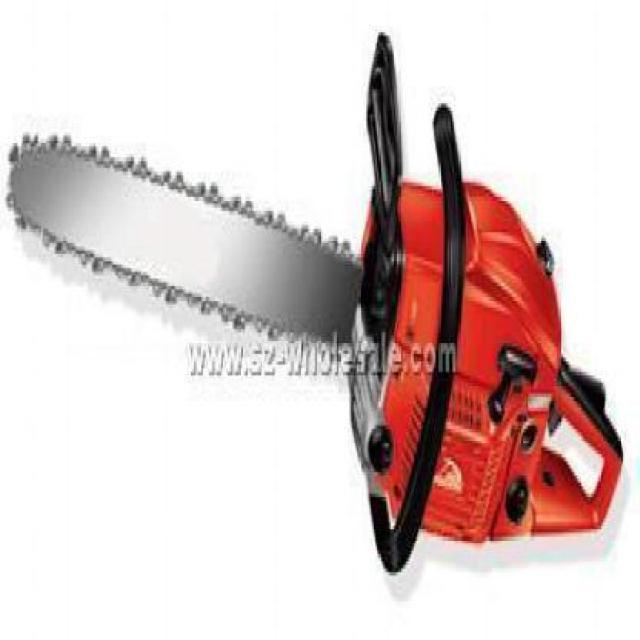Chainsaw: (3, 28, 626, 580)
